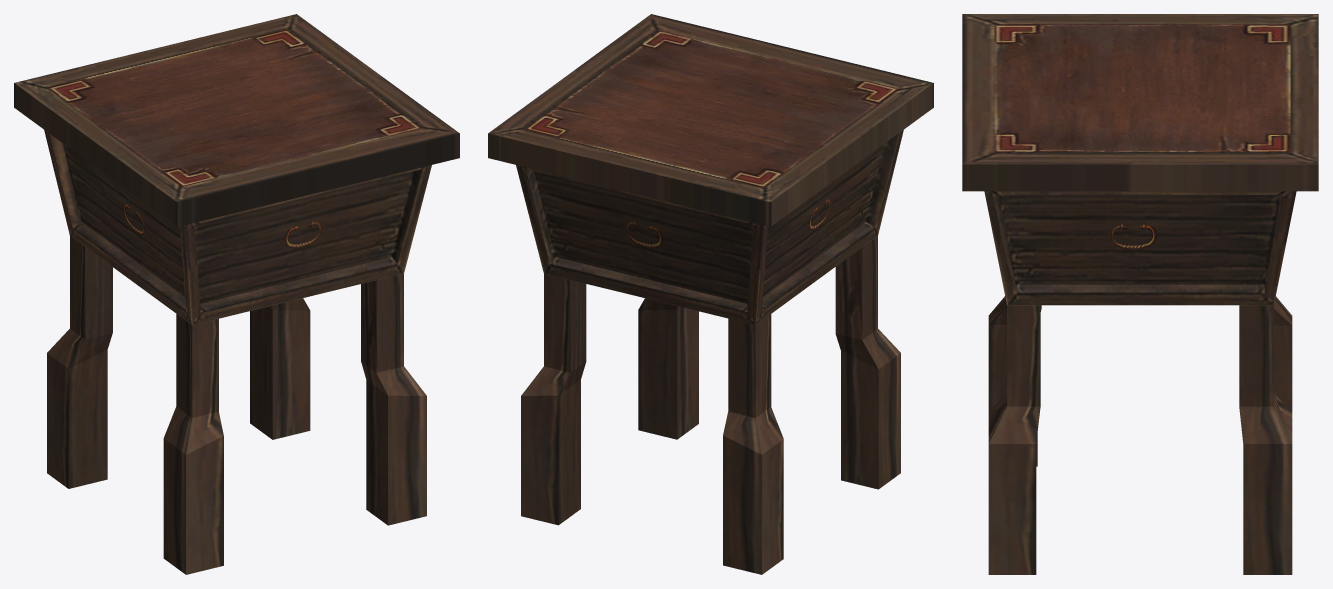
Rendered from Table_12.fbx.
3 renders of one model, left to right at view 1: azimuth 30°, elevation 25°; view 2: azimuth 150°, elevation 25°; view 3: azimuth 270°, elevation 25°, orthographic. The views are drawn at different scales.
Visible parts, largest first — view 1: Table_12; view 2: Table_12; view 3: Table_12.
Part boxes in pixels (x1,y1,x2,y2): Table_12: (14,14,459,574); Table_12: (488,14,933,574); Table_12: (962,14,1318,574).
Size of the model in its own units: 0.6172 by 0.806 by 0.6172.
